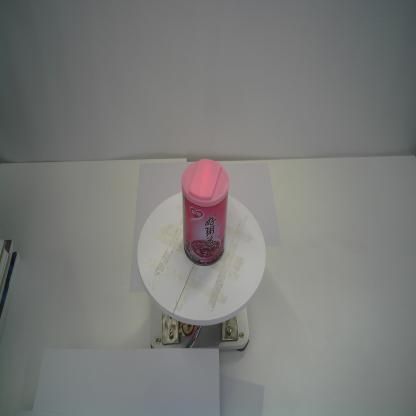Canned Food: (179, 154, 232, 274)
